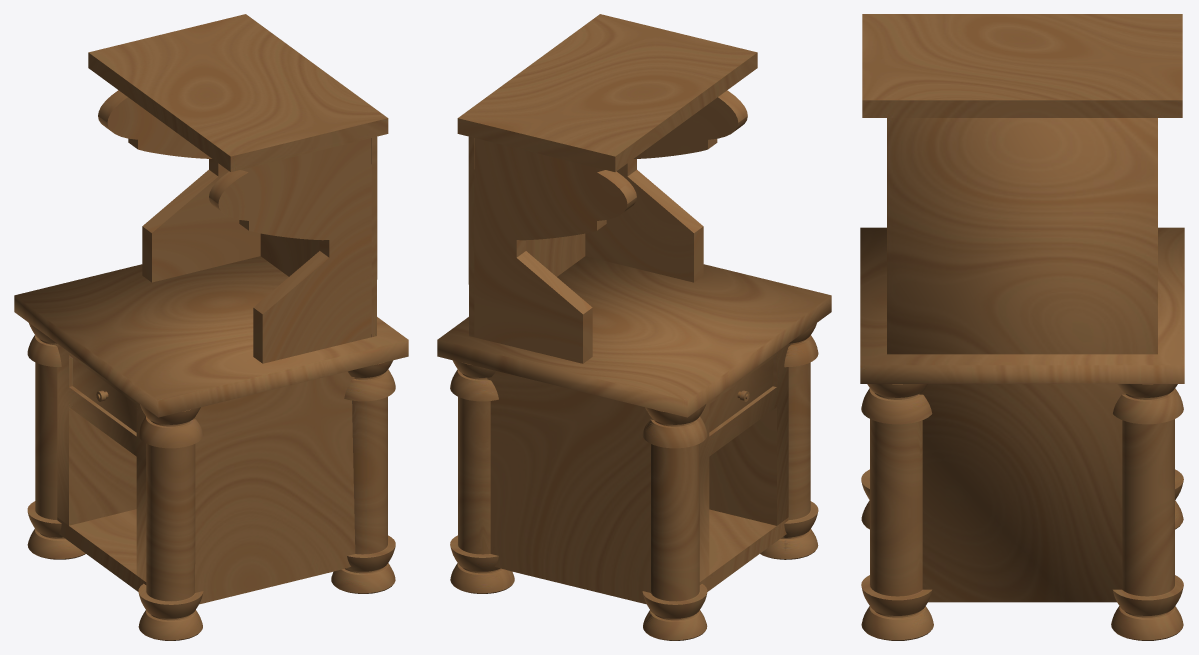
File: bookcase_with_a_drawer.glb
3 renders of one model, left to right at view 1: azimuth 30°, elevation 25°; view 2: azimuth 150°, elevation 25°; view 3: azimuth 270°, elevation 25°, orthographic. The views are drawn at different scales.
Parts seen in each view (by area): view 1: Object_4, Object_2, Object_3; view 2: Object_4, Object_2, Object_3; view 3: Object_4, Object_3.
Part boxes in pixels (x1,y1,x2,y2): Object_4: (14,14,408,604); Object_2: (98,90,371,363); Object_3: (27,323,395,640); Object_4: (437,14,831,604); Object_2: (474,90,747,363); Object_3: (450,323,818,640); Object_4: (860,14,1184,602); Object_3: (861,384,1183,640).
Bounding box in the file's own units: 4.47 × 8.06 × 4.46.
Materials: 3 (3 with a texture image).
